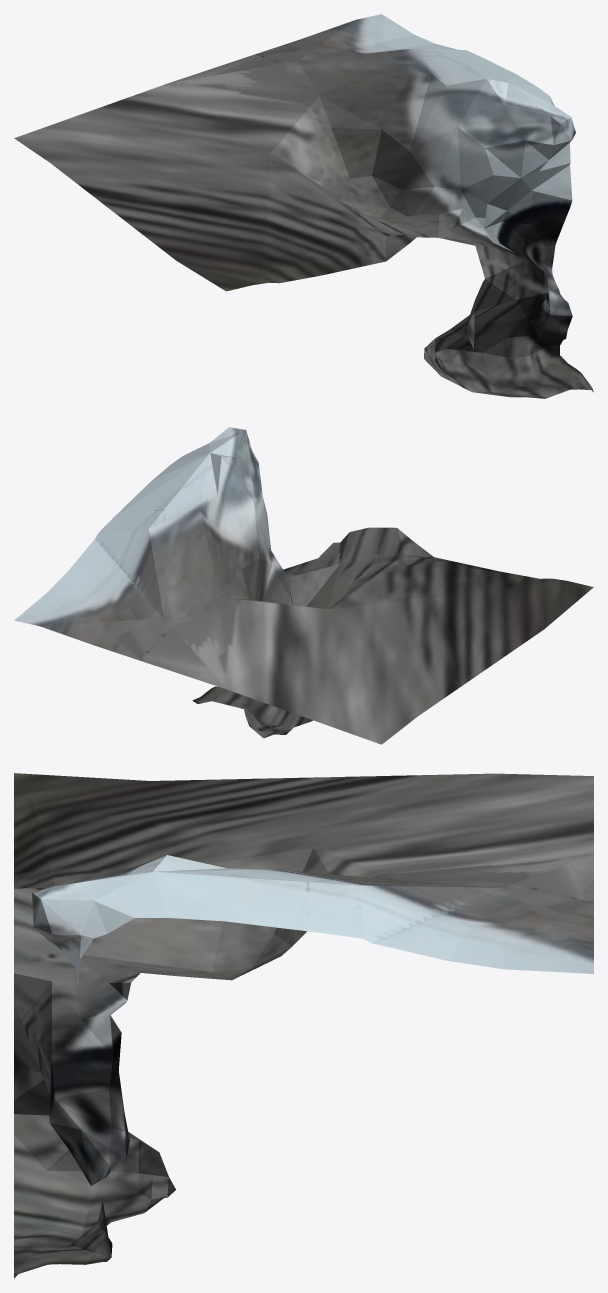
3 renders of one model, top to bottom at view 1: azimuth 30°, elevation 25°; view 2: azimuth 150°, elevation 25°; view 3: azimuth 270°, elevation 25°, orthographic. The views are drawn at different scales.
Size of the model in its own units: 1.67 by 1.25 by 1.67.
4 materials, 4 textured.
